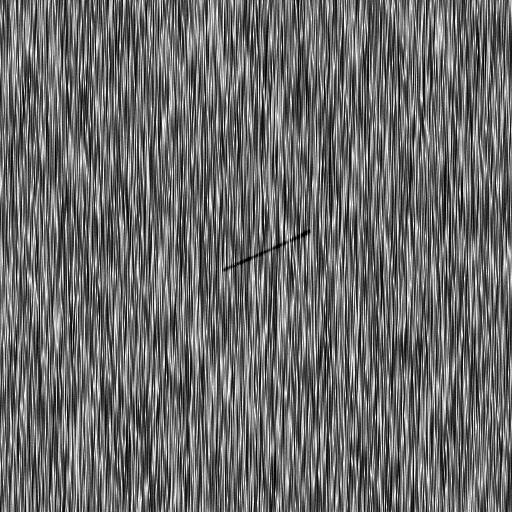DefectTypeC: (225, 230, 313, 273)
